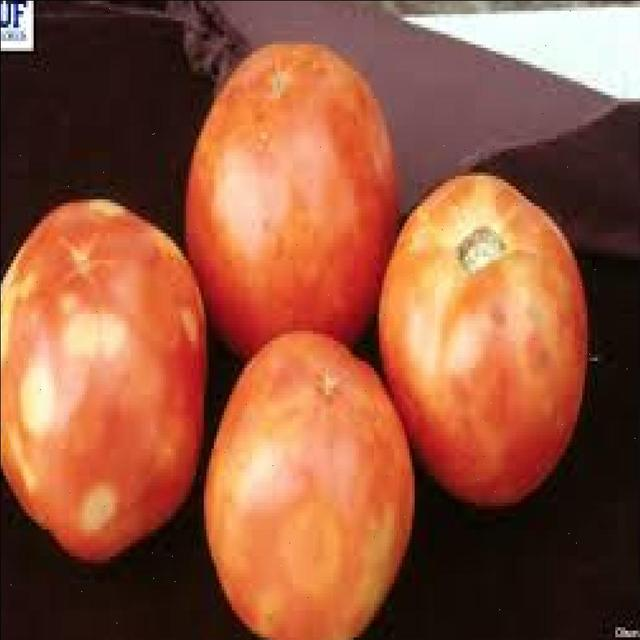Spotted wilt Virus Fruit: (0, 29, 328, 427)
